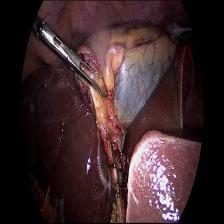Grasper: (49, 24, 108, 100)
